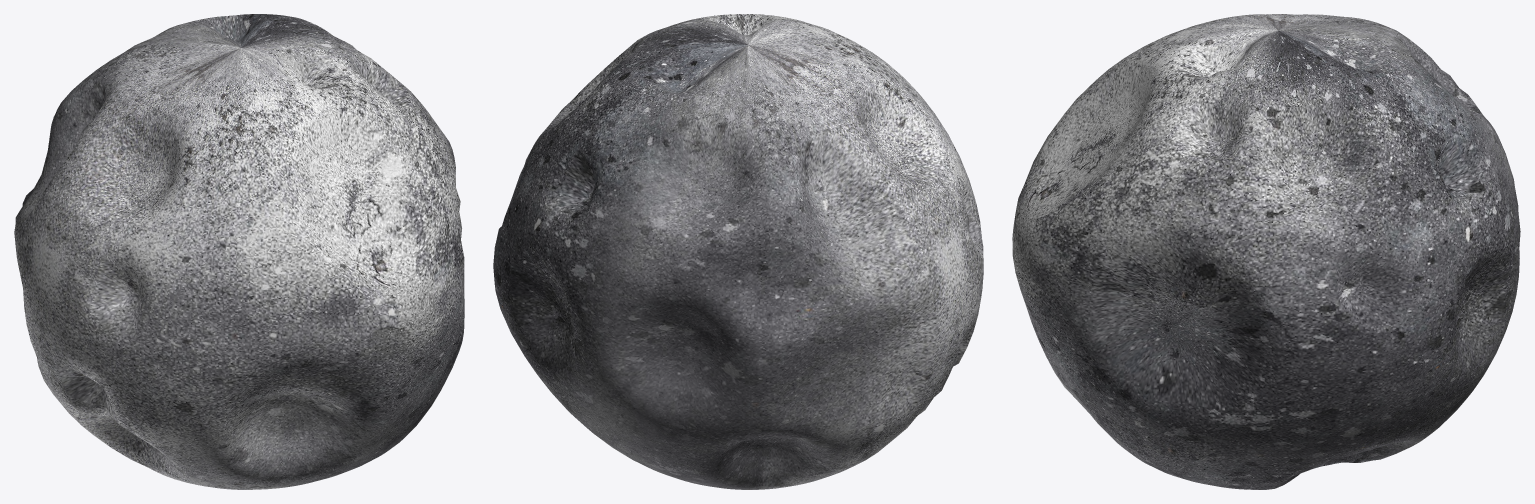
The model's file is meteorrit.obj.
The picture shows the model from 3 angles, left to right: view 1: azimuth 30°, elevation 25°; view 2: azimuth 150°, elevation 25°; view 3: azimuth 270°, elevation 25°; orthographic projection. The views are drawn at different scales.
Visible parts, largest first — view 1: Sphere.001; view 2: Sphere.001; view 3: Sphere.001.
Boxes of the visible parts, box(x1,y1,x2,y2) form: Sphere.001: box(14, 14, 464, 489); Sphere.001: box(493, 14, 983, 489); Sphere.001: box(1012, 14, 1520, 489).
Bounding box in the file's own units: 2.03 × 1.93 × 2.08.
1 material, 1 textured.
